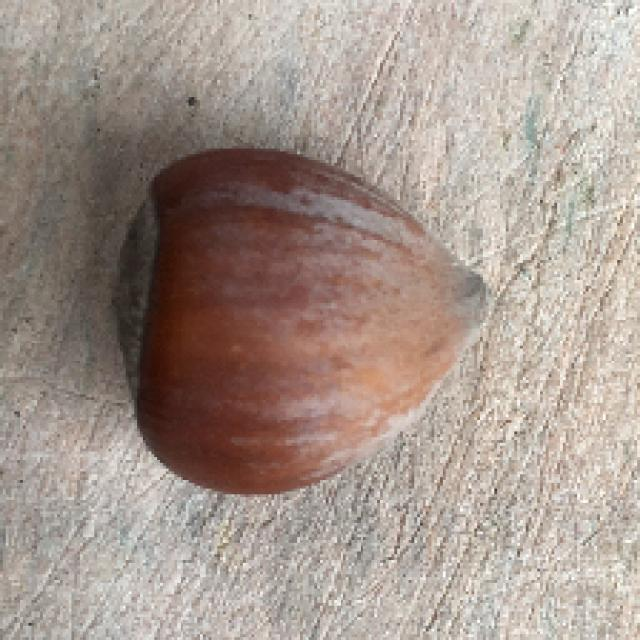qualityHazelnut: (107, 142, 495, 498)
